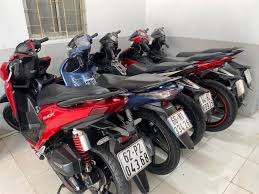Bien-so: (118, 138, 152, 181), (167, 109, 193, 138), (199, 91, 215, 114)
